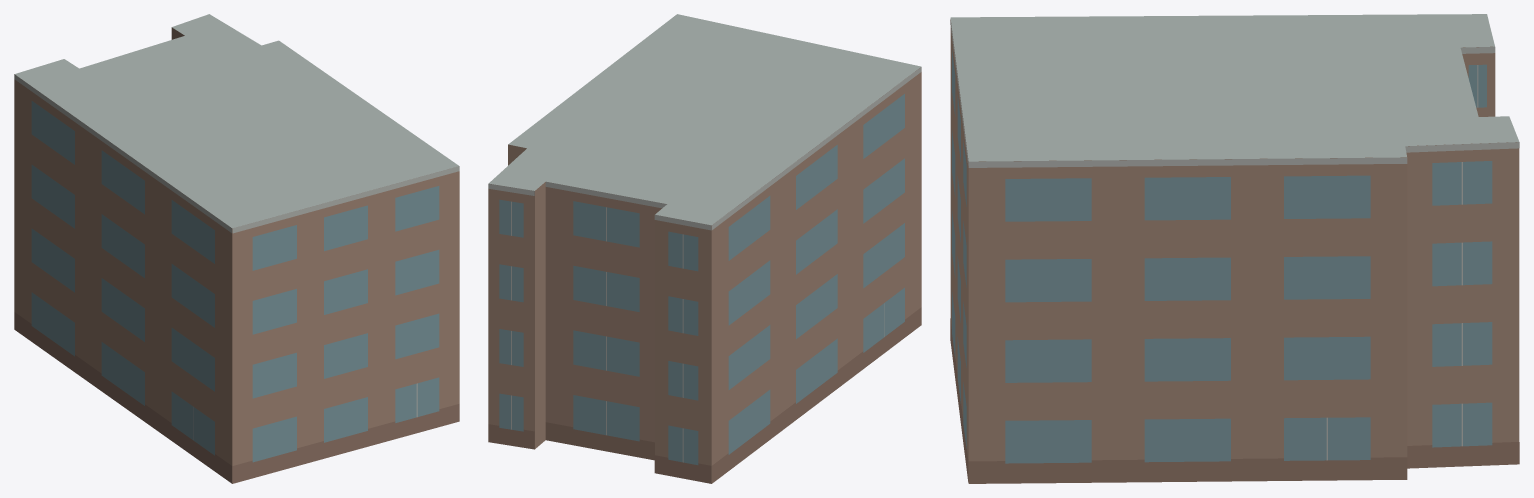
The model's file is survey-upis-32651759.glb.
The picture shows the model from 3 angles, left to right: view 1: azimuth 30°, elevation 25°; view 2: azimuth 150°, elevation 25°; view 3: azimuth 270°, elevation 25°; orthographic projection. The views are drawn at different scales.
Parts seen in each view (by area): view 1: survey-upis-32651759.tmp; view 2: survey-upis-32651759.tmp; view 3: survey-upis-32651759.tmp.
Boxes of the visible parts, left/top/right/bottom form: survey-upis-32651759.tmp: left=14, top=14, right=459, bottom=483; survey-upis-32651759.tmp: left=488, top=14, right=921, bottom=483; survey-upis-32651759.tmp: left=950, top=14, right=1519, bottom=483.
Size of the model in its own units: 11.99 by 12.2 by 19.53.
